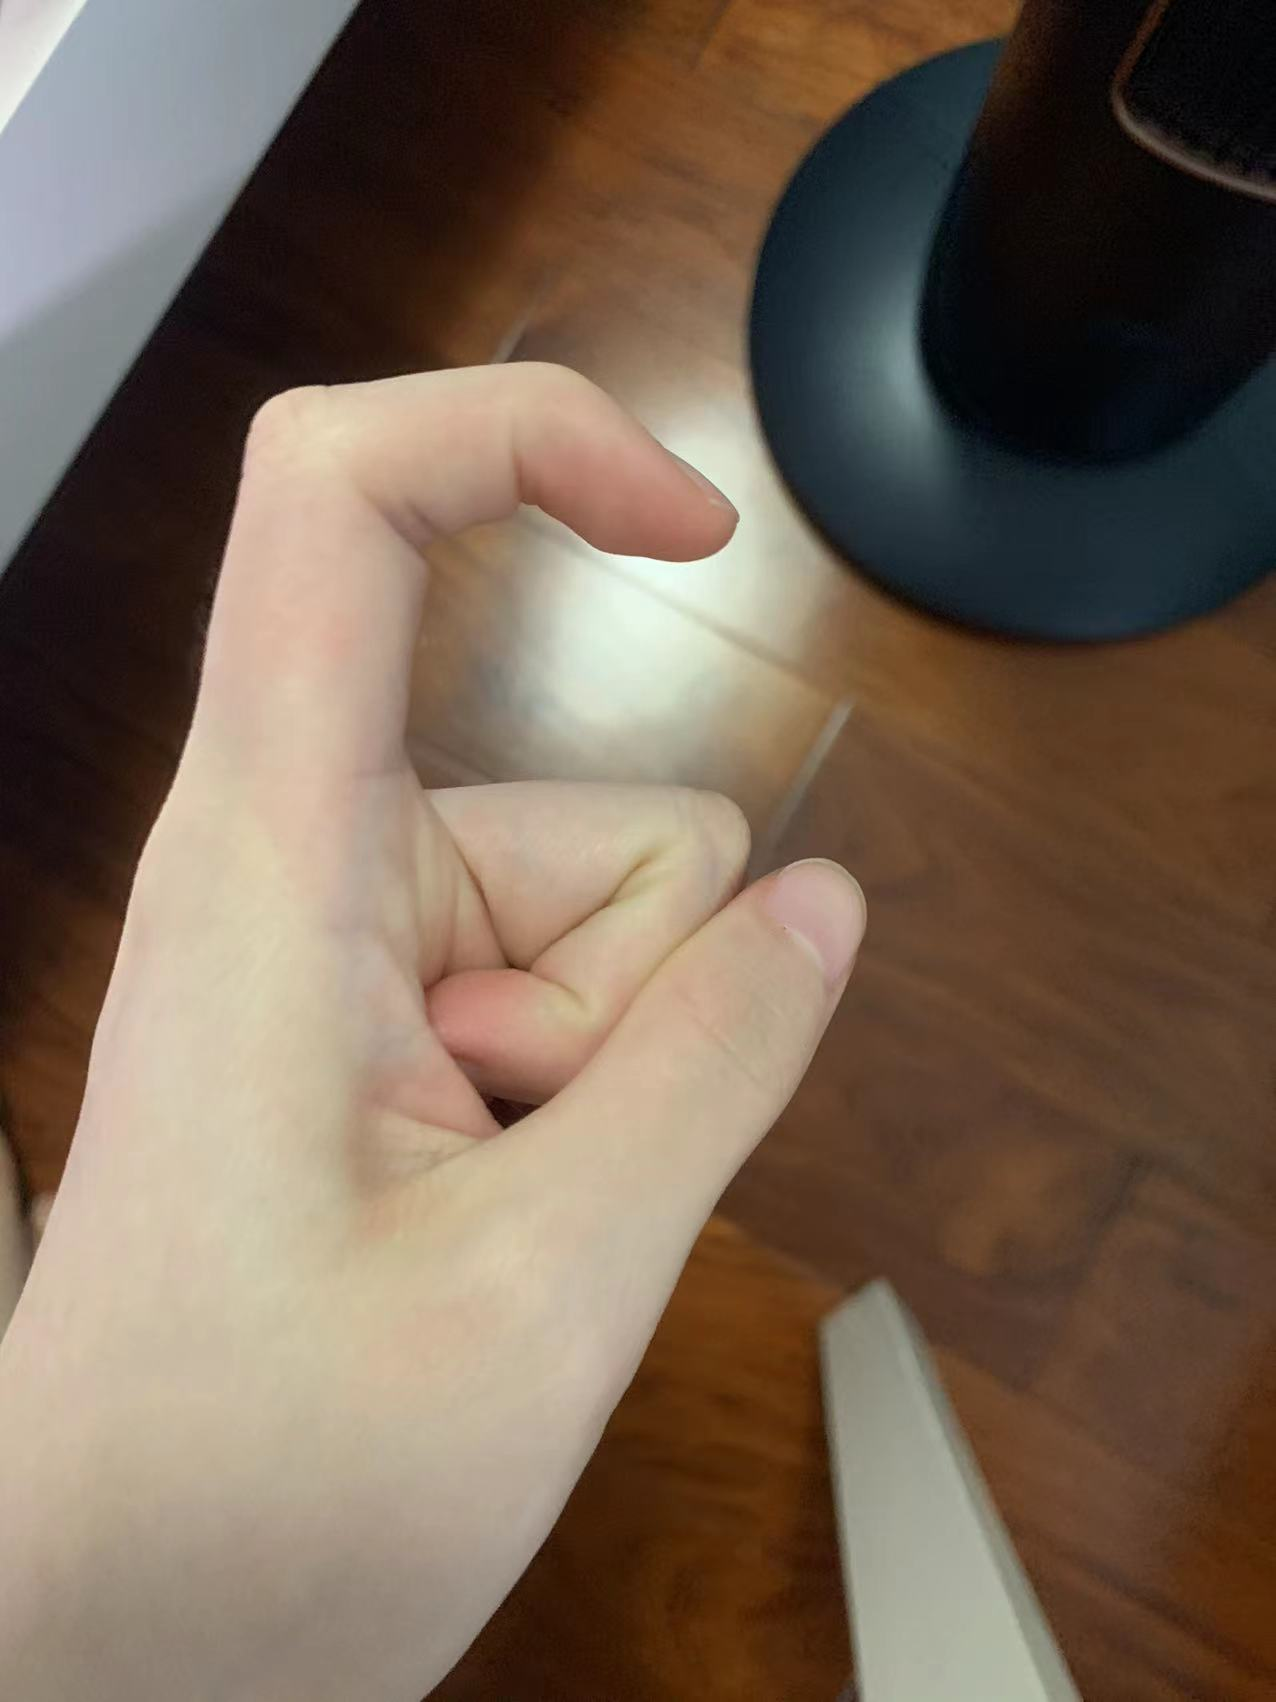anticlockwise: (29, 351, 860, 1494)
